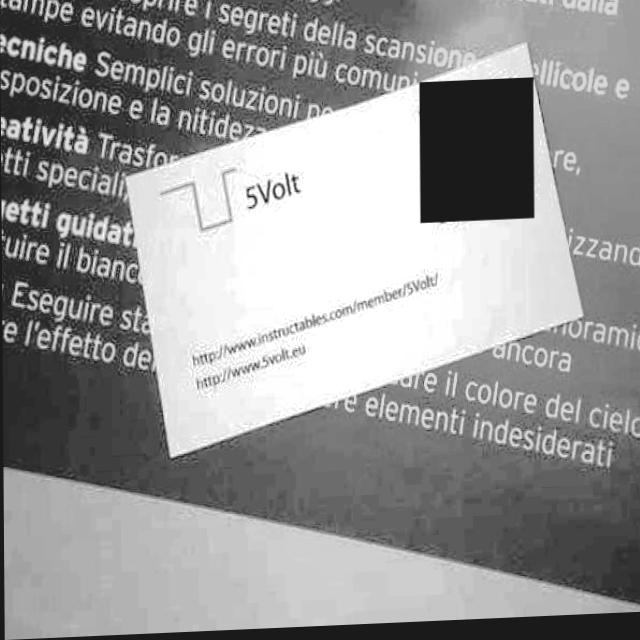qr_code: (419, 82, 534, 227)
